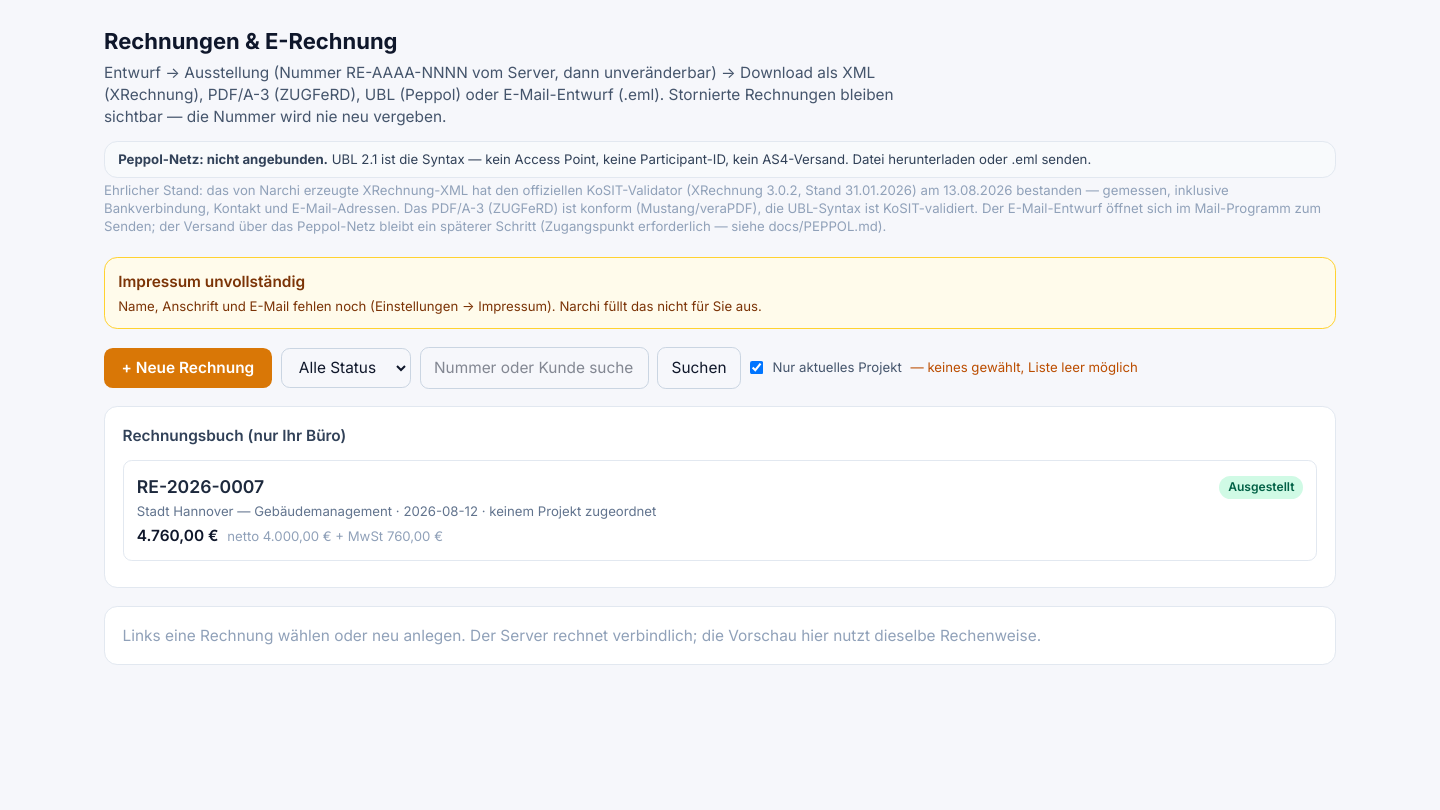
it: Page Rechnungen §116 › facture émise : les 4 sorties (XML, ZUGFeRD, UBL, .eml) sont téléchargeables
Click the button that starts with "RE-2026-0007": (201,487) [123,460,1317,561]
(page scrolled)
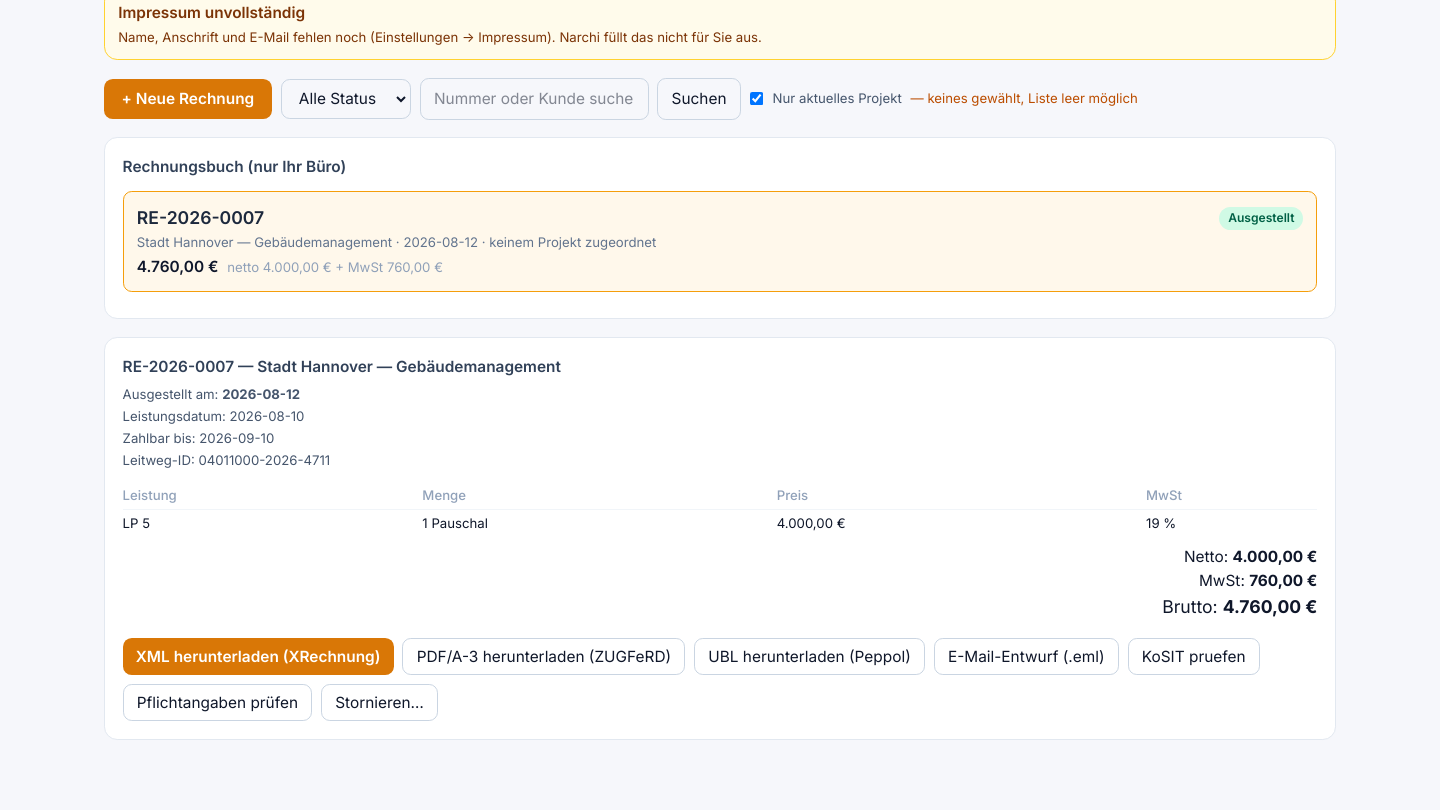
Result: the button "XML herunterladen (XRechnung)" is shown at [123,638,394,675]
Result: the button "PDF/A-3 herunterladen (ZUGFeRD)" is shown at [402,638,685,675]
Result: the button "UBL herunterladen (Peppol)" is shown at [694,638,925,675]
